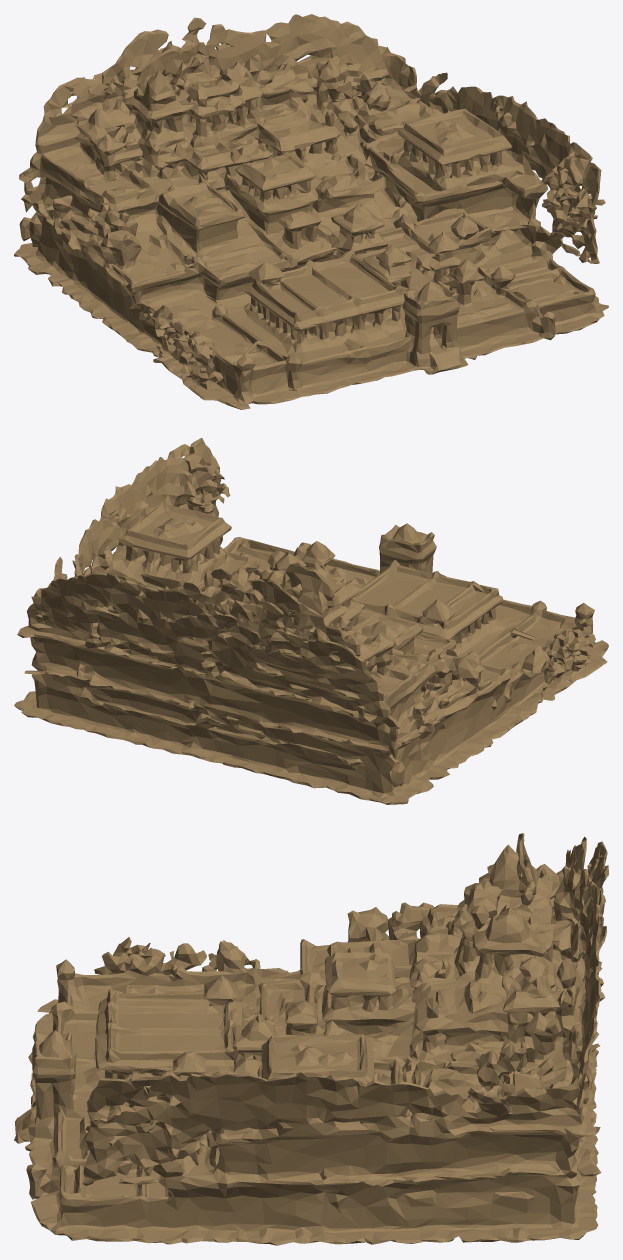
File: Royal Palace.glb
The picture shows the model from 3 angles, top to bottom: view 1: azimuth 30°, elevation 25°; view 2: azimuth 150°, elevation 25°; view 3: azimuth 270°, elevation 25°; orthographic projection. The views are drawn at different scales.
Parts seen in each view (by area): view 1: tmpcx0aycrf.ply; view 2: tmpcx0aycrf.ply; view 3: tmpcx0aycrf.ply.
Part boxes in pixels (x1,y1,x2,y2): tmpcx0aycrf.ply: (14,14,608,409); tmpcx0aycrf.ply: (14,438,608,804); tmpcx0aycrf.ply: (14,833,608,1245).
Size of the model in its own units: 1.95 by 0.8919 by 1.96.
